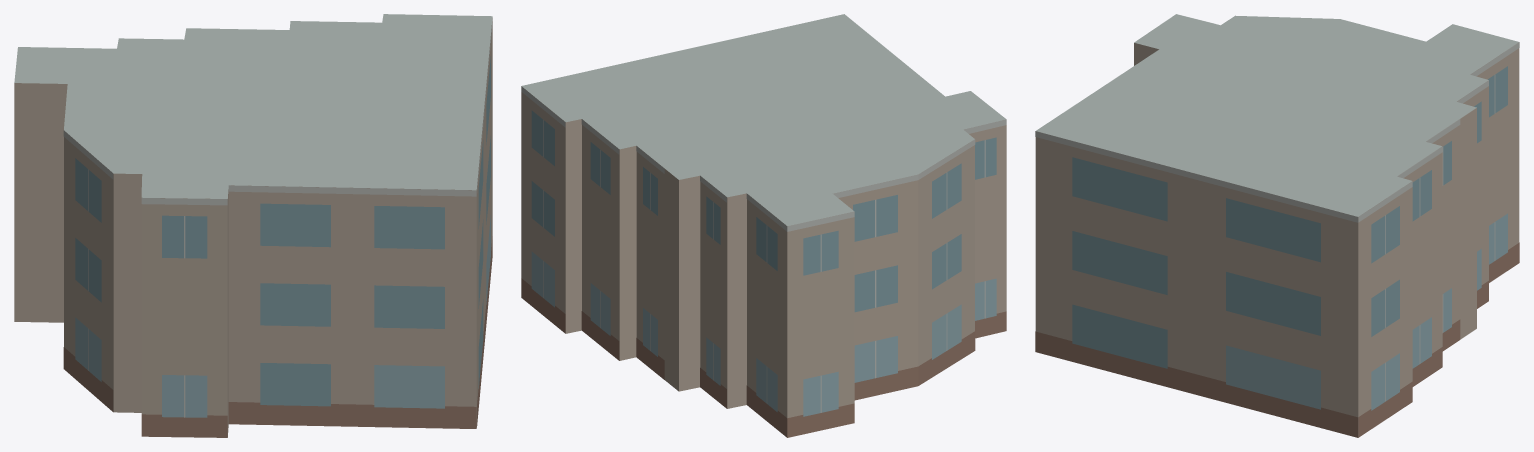
Rendered from survey-upis-32690768.glb.
3 renders of one model, left to right at view 1: azimuth 30°, elevation 25°; view 2: azimuth 150°, elevation 25°; view 3: azimuth 270°, elevation 25°, orthographic. The views are drawn at different scales.
Parts seen in each view (by area): view 1: survey-upis-32690768.tmp; view 2: survey-upis-32690768.tmp; view 3: survey-upis-32690768.tmp.
Part boxes in pixels (left/top/right/bottom): survey-upis-32690768.tmp: left=14, top=14, right=492, bottom=437; survey-upis-32690768.tmp: left=521, top=14, right=1006, bottom=437; survey-upis-32690768.tmp: left=1035, top=14, right=1519, bottom=437.
Size of the model in its own units: 18.03 by 9.15 by 18.17.
